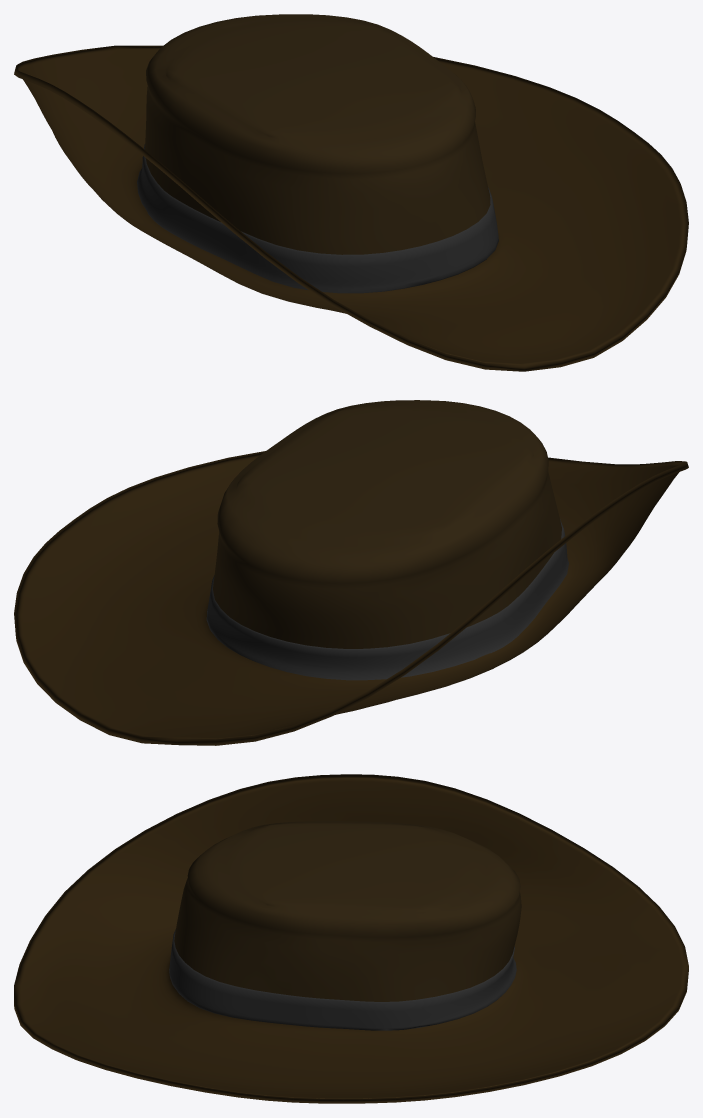
The model's file is cavalier_hat.glb.
3 renders of one model, top to bottom at view 1: azimuth 30°, elevation 25°; view 2: azimuth 150°, elevation 25°; view 3: azimuth 270°, elevation 25°, orthographic. The views are drawn at different scales.
Parts seen in each view (by area): view 1: cavalier_hat_brim_0, cavalier_hat_cloth_0, cavalier_hat_band_0; view 2: cavalier_hat_brim_0, cavalier_hat_cloth_0, cavalier_hat_band_0; view 3: cavalier_hat_brim_0, cavalier_hat_cloth_0, cavalier_hat_band_0.
Boxes of the visible parts, <box> form: cavalier_hat_brim_0: <box>14,45,688,371</box>; cavalier_hat_cloth_0: <box>143,14,490,254</box>; cavalier_hat_band_0: <box>137,144,498,293</box>; cavalier_hat_brim_0: <box>14,451,688,745</box>; cavalier_hat_cloth_0: <box>213,400,561,658</box>; cavalier_hat_band_0: <box>206,519,568,680</box>; cavalier_hat_brim_0: <box>14,774,688,1103</box>; cavalier_hat_cloth_0: <box>174,821,521,1001</box>; cavalier_hat_band_0: <box>169,929,516,1030</box>.
Bounding box in the file's own units: 0.2721 × 0.0805 × 0.3658.
